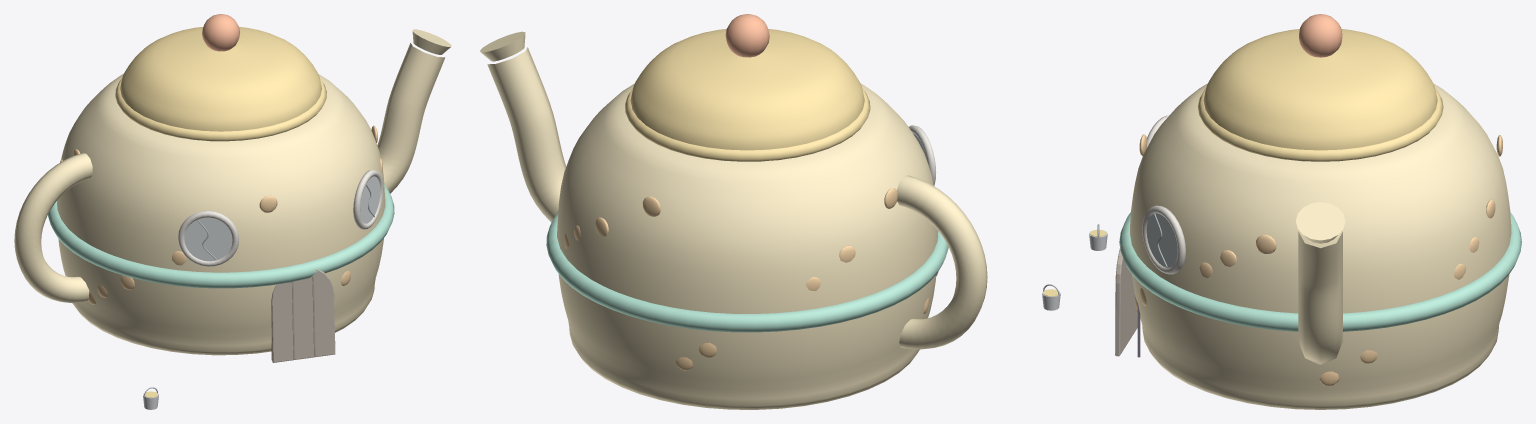
Rendered from building_kitchen_L04.glb.
3 renders of one model, left to right at view 1: azimuth 30°, elevation 25°; view 2: azimuth 150°, elevation 25°; view 3: azimuth 270°, elevation 25°, orthographic. The views are drawn at different scales.
Visible parts, largest first — view 1: Body; view 2: Body; view 3: Body.
Part boxes in pixels (<box>): Body: <box>14,14,451,362</box>; Body: <box>480,14,987,409</box>; Body: <box>1115,14,1521,409</box>.
Bounding box in the file's own units: 22.16 × 13.84 × 16.56.
